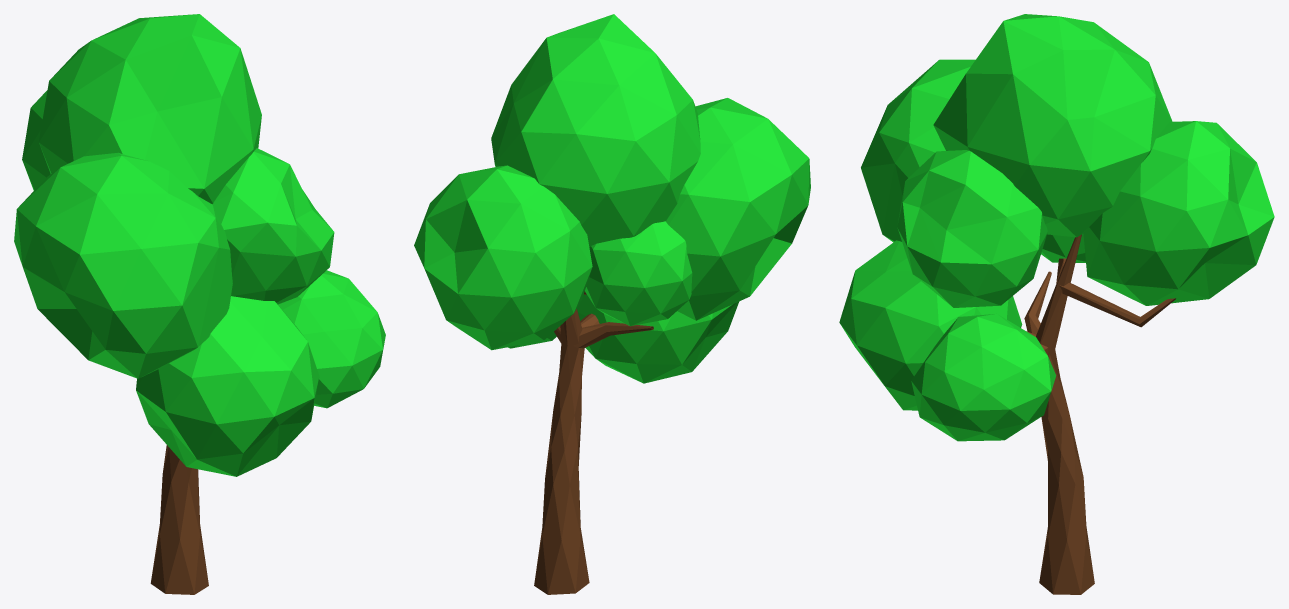
The model's file is Tree01.fbx.
3 views of the same model, side by side, from view 1: azimuth 30°, elevation 25°; view 2: azimuth 150°, elevation 25°; view 3: azimuth 270°, elevation 25° (orthographic). The views are drawn at different scales.
Visible parts, largest first — view 1: Icosphere.010, Tree Low Poly; view 2: Icosphere.010, Tree Low Poly; view 3: Icosphere.010, Tree Low Poly.
Part boxes in pixels (bbox=[...]): Icosphere.010: bbox=[14, 14, 385, 476]; Tree Low Poly: bbox=[150, 445, 208, 594]; Icosphere.010: bbox=[414, 14, 810, 383]; Tree Low Poly: bbox=[534, 291, 653, 594]; Icosphere.010: bbox=[839, 14, 1274, 441]; Tree Low Poly: bbox=[1024, 234, 1175, 594].
Size of the model in its own units: 148 by 238 by 169.
